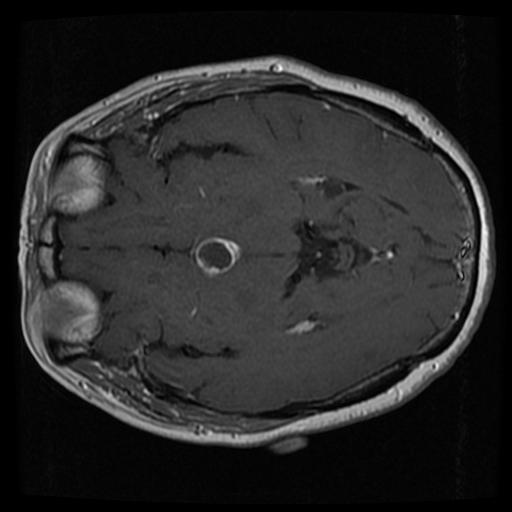pituitary tumour: (189, 237, 240, 280)
